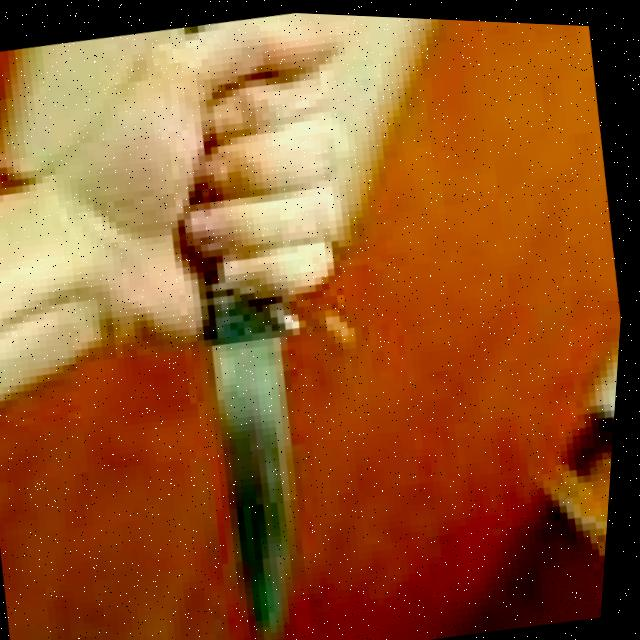knife: (175, 236, 343, 640)
